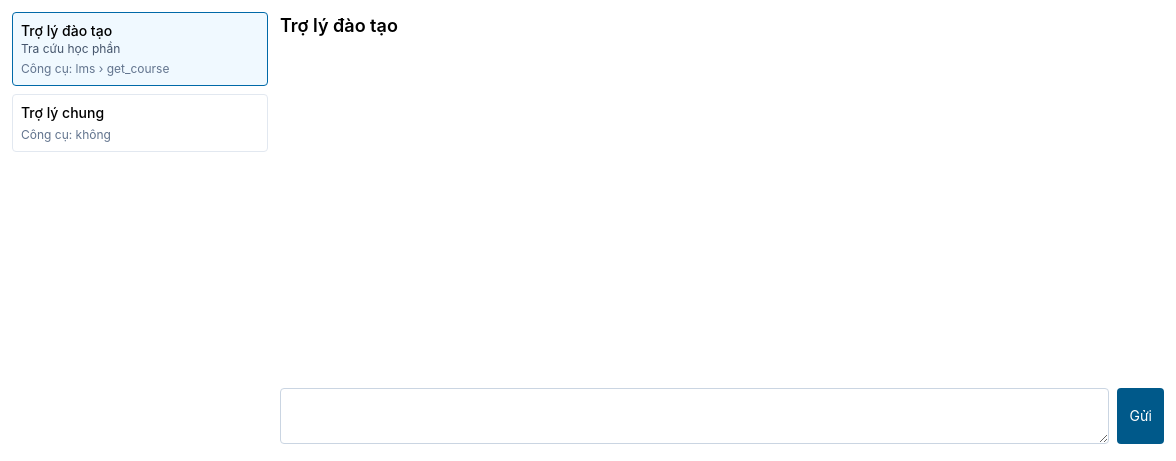
Test: AssistantsPage › shows tool steps, the answer and the cost
Expected: the heading "Trợ lý đào tạo" is shown, [280,15,398,36]
Expected: the text "Công cụ: lms › get_course" is shown, [21,61,170,76]
Type "KT101 bao nhiêu tín chỉ?" into the text box named "Câu hỏi cho trợ lý" at (695, 416), box [280,388,1110,444]
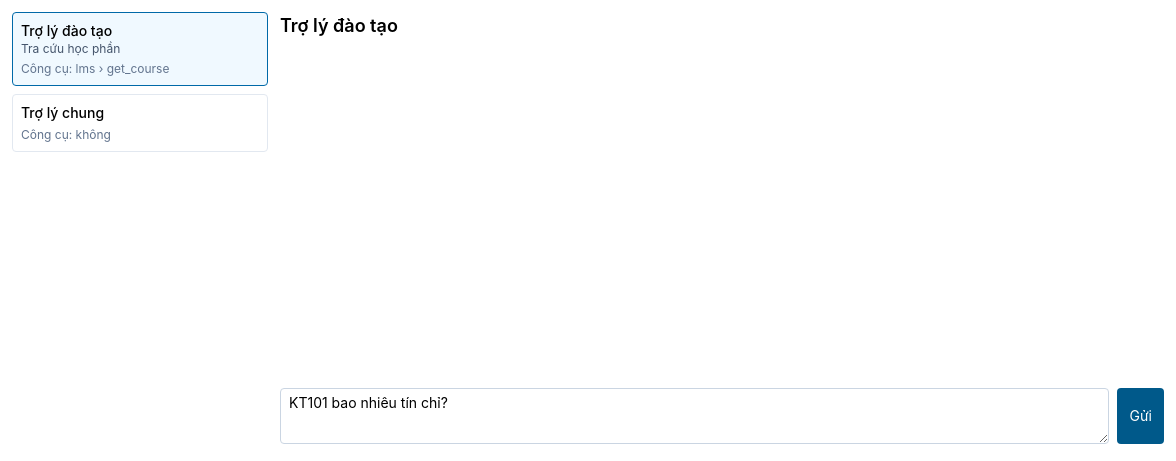
Click the button "Gửi" at (1141, 416), box [1118,388,1164,444]
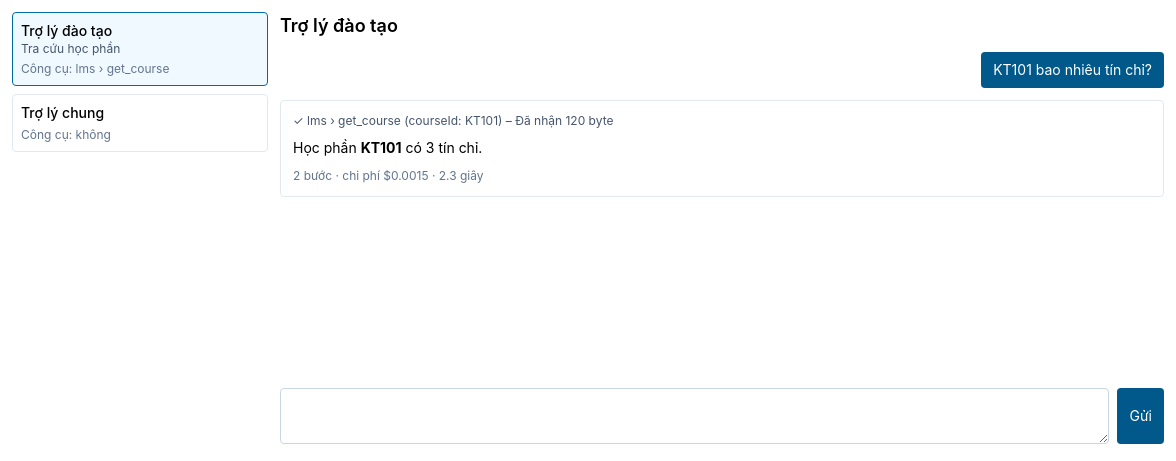
Now the text "Học phần KT101 có 3 tín chỉ." is shown, box [293,139,482,156]
Now the list named "Các bước dùng công cụ" shows "lms › get_course (courseId: KT101) – Đã nhận 120 byte", box [293,113,614,128]
Now the text "2 bước · chi phí $0.0015 · 2.3 giây" is shown, box [293,168,484,183]
